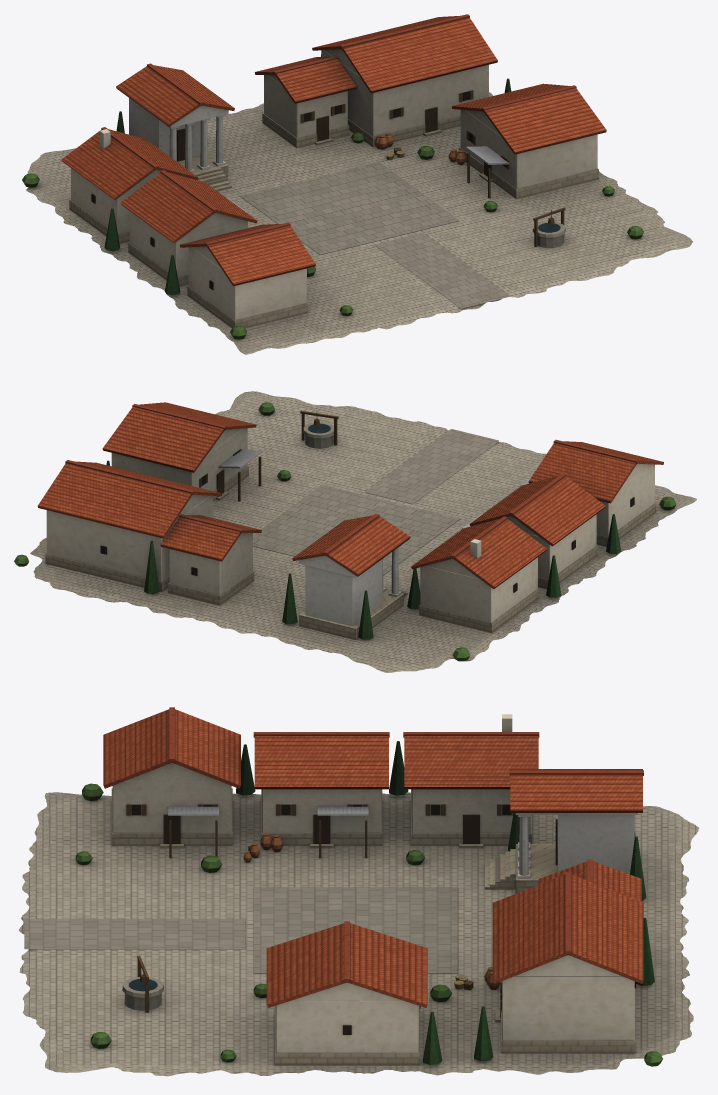
Rendered from classical-town-small-a.glb.
The picture shows the model from 3 angles, top to bottom: view 1: azimuth 30°, elevation 25°; view 2: azimuth 150°, elevation 25°; view 3: azimuth 270°, elevation 25°; orthographic projection. The views are drawn at different scales.
Visible parts, largest first — view 1: LOD0; view 2: LOD0; view 3: LOD0.
Boxes of the visible parts, box(x1,y1,x2,y2) form: LOD0: box(22, 14, 692, 354); LOD0: box(14, 391, 696, 672); LOD0: box(19, 707, 699, 1076).
Size of what is drawn, in the model's own units: 4.02 by 0.714 by 4.06.
3 materials, 3 textured.
